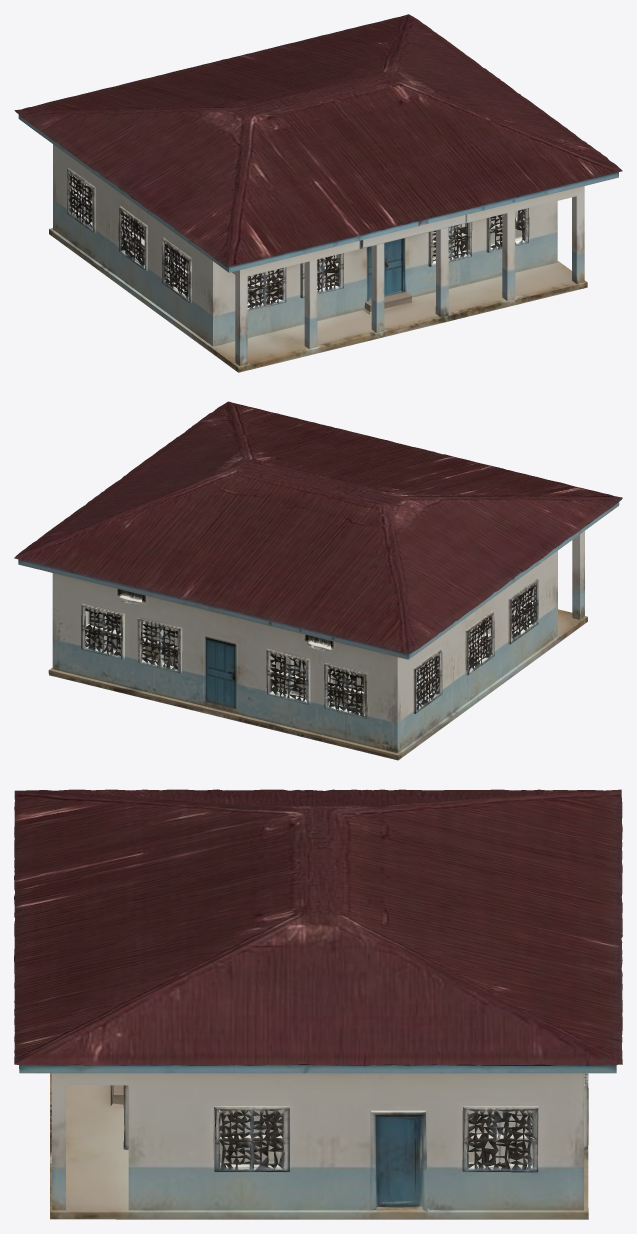
File: police_station.glb
The picture shows the model from 3 angles, top to bottom: view 1: azimuth 30°, elevation 25°; view 2: azimuth 150°, elevation 25°; view 3: azimuth 270°, elevation 25°; orthographic projection. The views are drawn at different scales.
Parts seen in each view (by area): view 1: police_station; view 2: police_station; view 3: police_station.
Boxes of the visible parts, box(x1,y1,x2,y2) form: police_station: box(14, 14, 622, 372); police_station: box(14, 401, 622, 760); police_station: box(14, 789, 622, 1219).
Bounding box in the file's own units: 13.7 × 5.47 × 12.78.
1 material, 1 textured.
